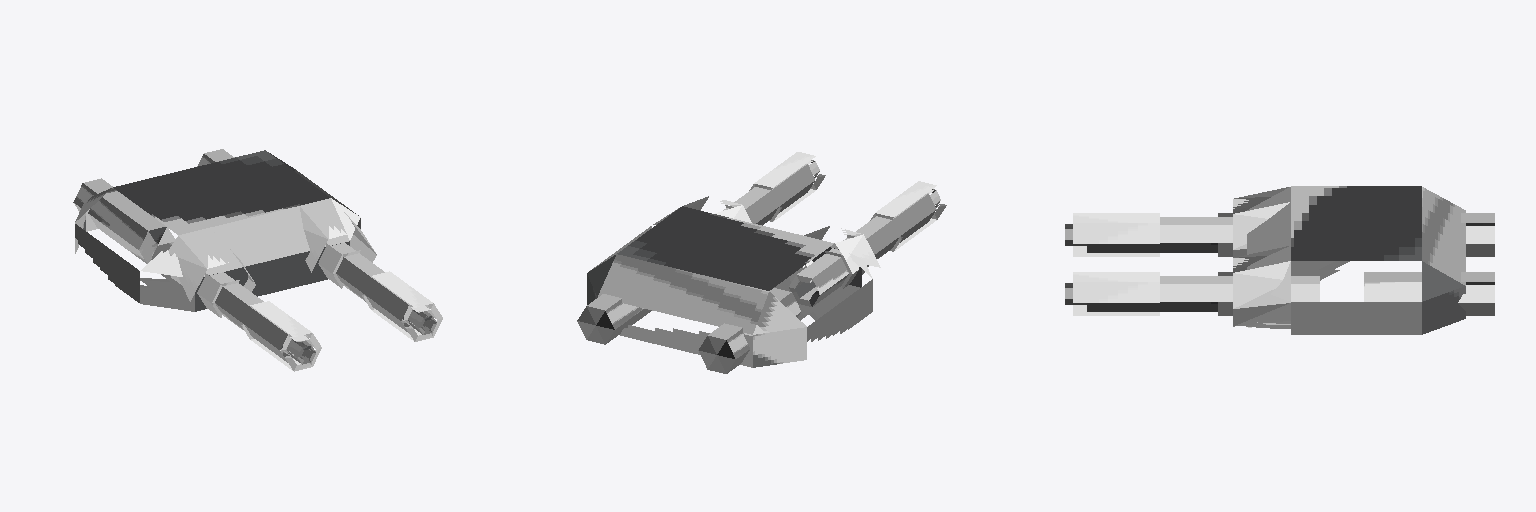
3 views of the same model, side by side, from view 1: azimuth 30°, elevation 25°; view 2: azimuth 150°, elevation 25°; view 3: azimuth 270°, elevation 25° (orthographic).
Parts seen in each view (by area): view 1: cube_selection, tube, cylinder; view 2: cube_selection, tube, cylinder; view 3: cube_selection, tube, cylinder.
Boxes of the visible parts, x1,y1,x2,y2 form: cube_selection: [75, 150, 360, 311]; tube: [168, 207, 442, 371]; cylinder: [73, 149, 234, 263]; cube_selection: [587, 206, 872, 367]; tube: [684, 152, 946, 306]; cylinder: [577, 288, 800, 373]; cube_selection: [1247, 186, 1465, 334]; tube: [1065, 187, 1319, 328]; cylinder: [1364, 213, 1494, 315].
Size of the model in its own units: 1.09 by 0.375 by 1.84.
1 materials, 1 textured.